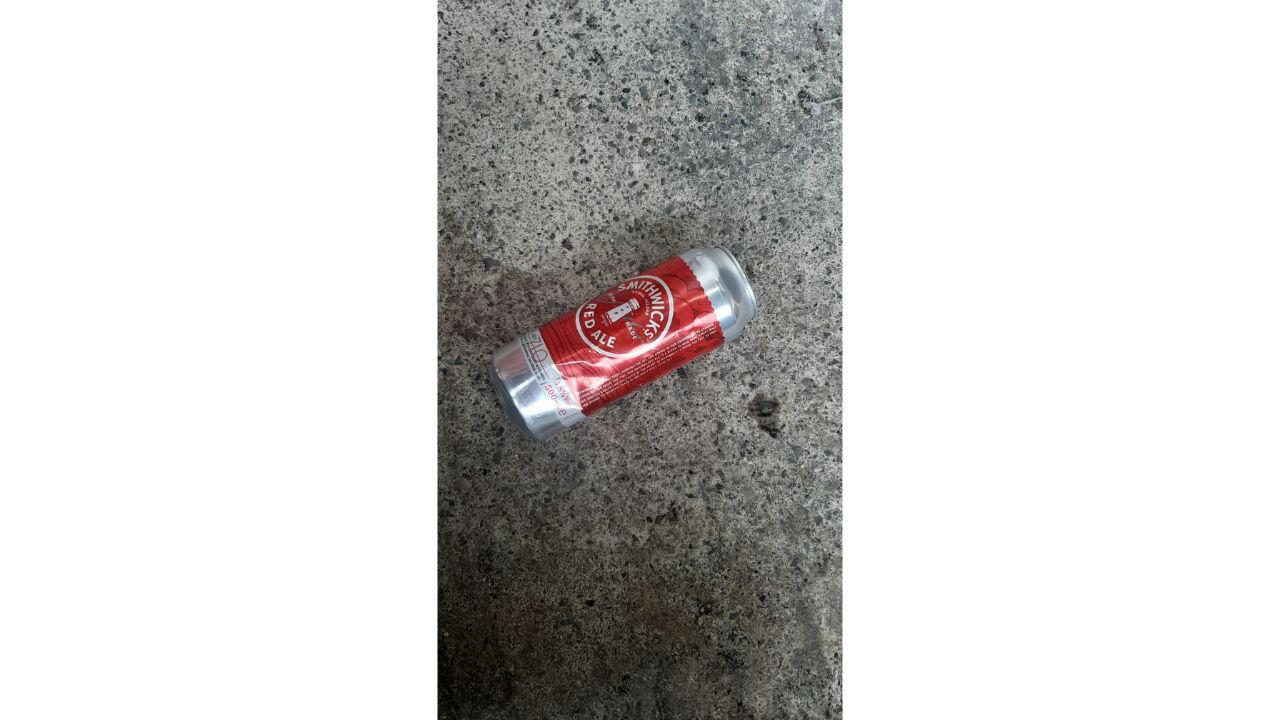Can: (473, 229, 774, 450)
